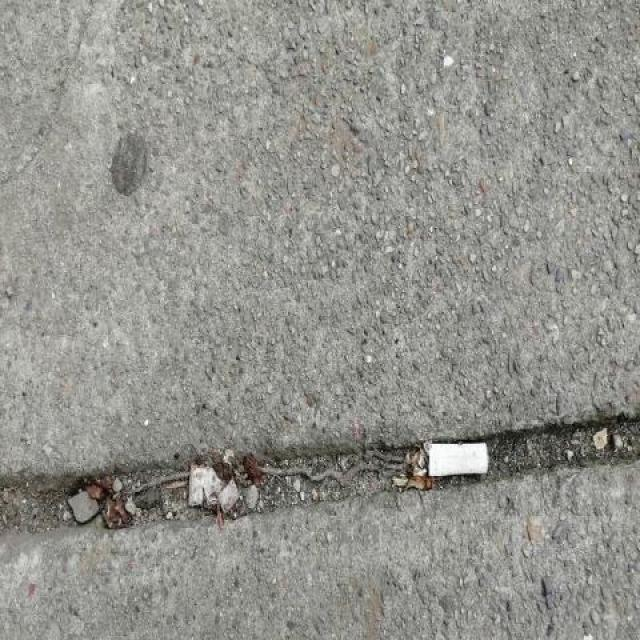non-organic waste: (419, 436, 493, 485)
